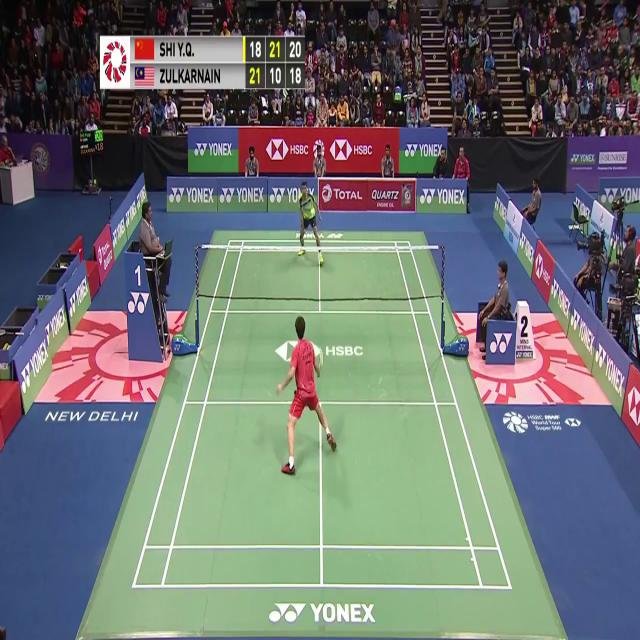Shuttlecock: (309, 208, 316, 220)
